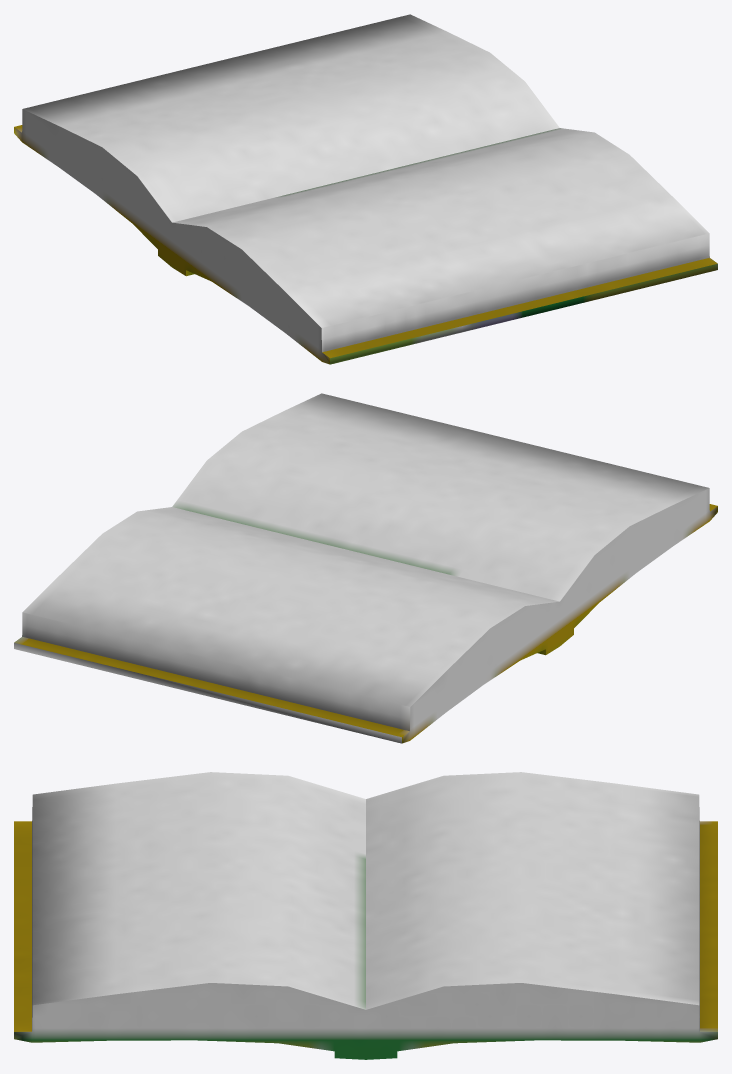
File: Prop_116_Openbook.fbx
3 renders of one model, top to bottom at view 1: azimuth 30°, elevation 25°; view 2: azimuth 150°, elevation 25°; view 3: azimuth 270°, elevation 25°, orthographic. The views are drawn at different scales.
Parts seen in each view (by area): view 1: Prop_116_Openbook; view 2: Prop_116_Openbook; view 3: Prop_116_Openbook.
Part boxes in pixels (<box>): Prop_116_Openbook: <box>14,14,717,364</box>; Prop_116_Openbook: <box>14,393,717,743</box>; Prop_116_Openbook: <box>14,772,717,1059</box>.
Size of the model in its own units: 0.3 by 0.0512 by 0.4235.
1 material, 1 textured.
